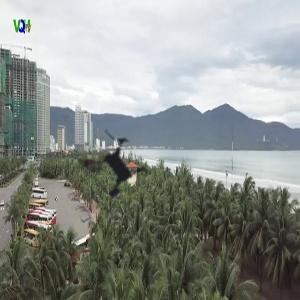drone: (45, 91, 192, 238)
